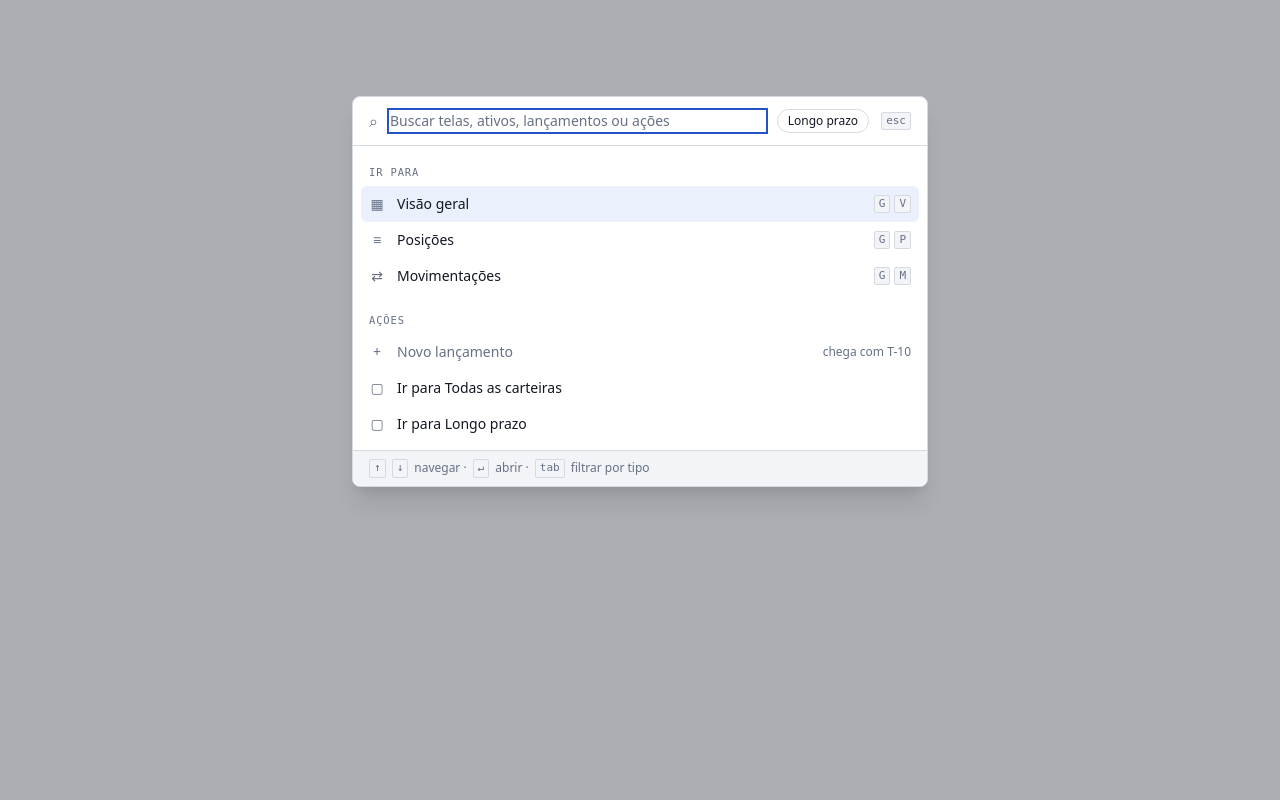
Test: abertura › abre mesmo que a api nunca responda
This screenshot has width=1280, height=800.
Type "pos" into the dropdown at (577, 121), box [390, 111, 765, 131]
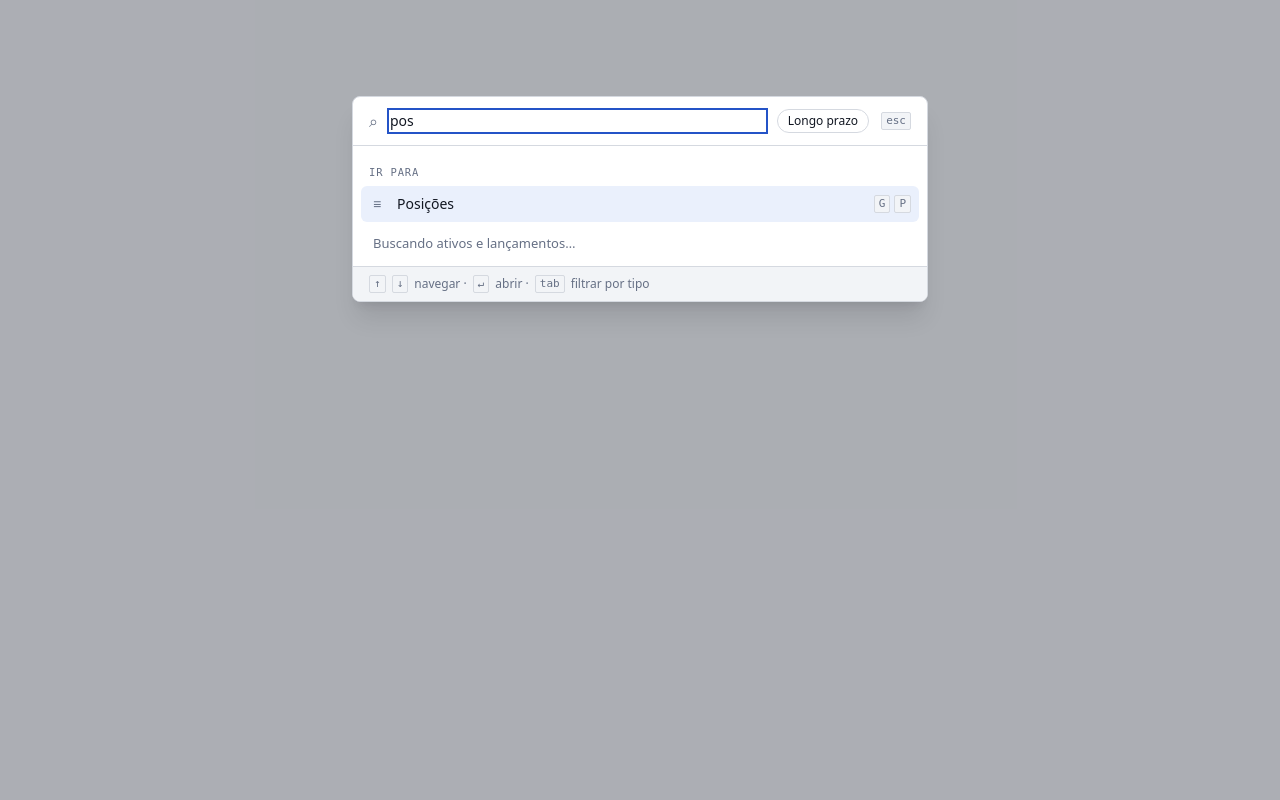
Check: the option "≡ Posições G P" is shown, box [361, 186, 919, 222]
Check: the text "Buscando ativos e lançamentos…" is shown, box [373, 234, 576, 252]
